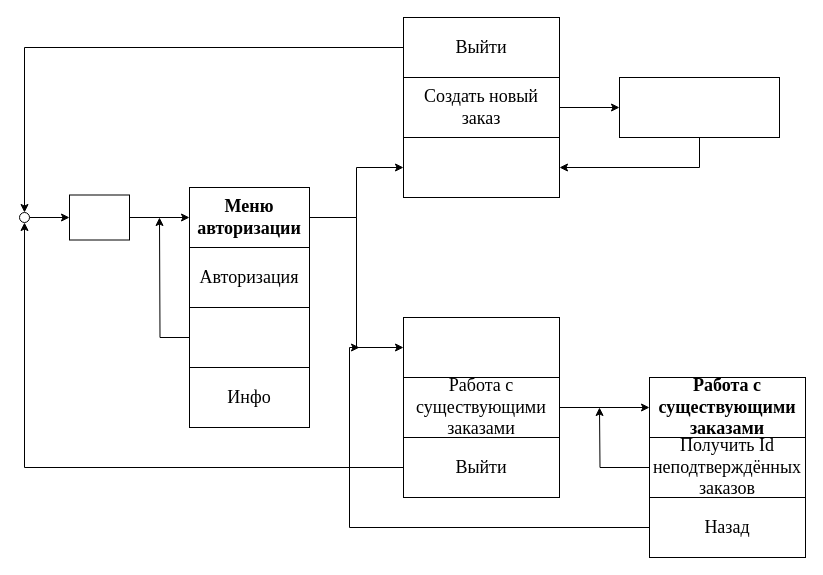
Image size: 823x575. Some labels were removed from this diagram. Each missing label, with the box of its shape:
Start: (68, 194, 130, 240)
Выбор атрибутов заказа: (618, 76, 780, 138)
Меню Администратора: (402, 316, 560, 378)
Меню Пользователя: (402, 136, 560, 198)
Регистрация: (188, 306, 310, 368)
